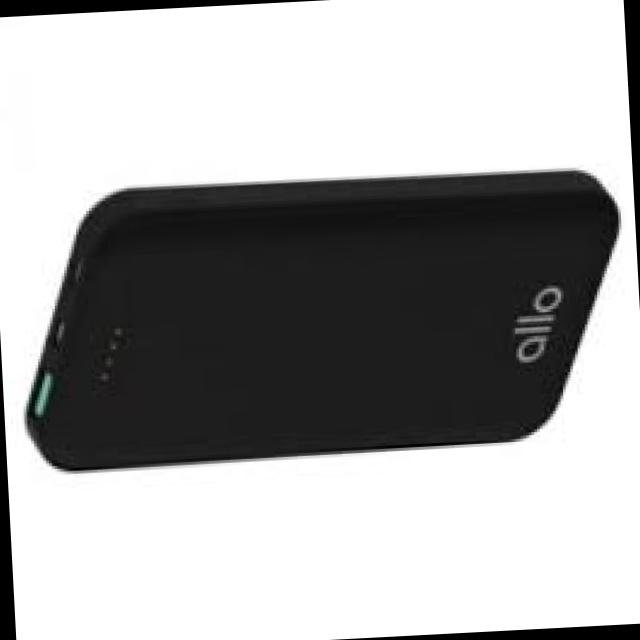power_bank: (6, 164, 634, 478)
